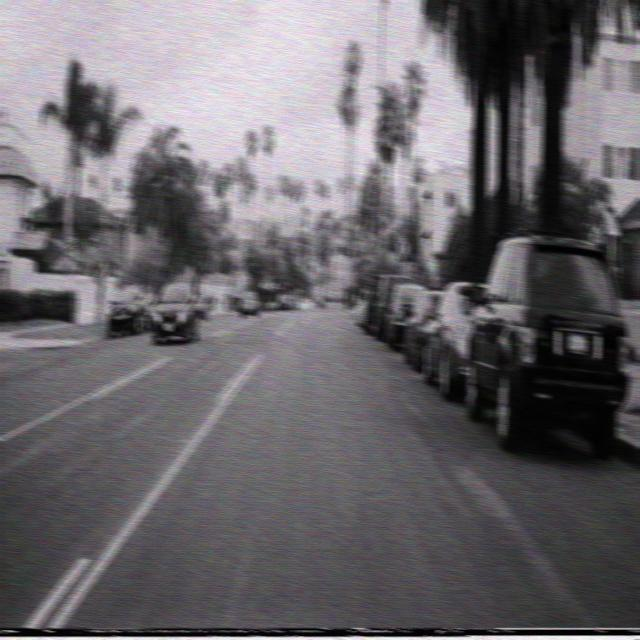pedestrianCrossing: (395, 233, 409, 260)
